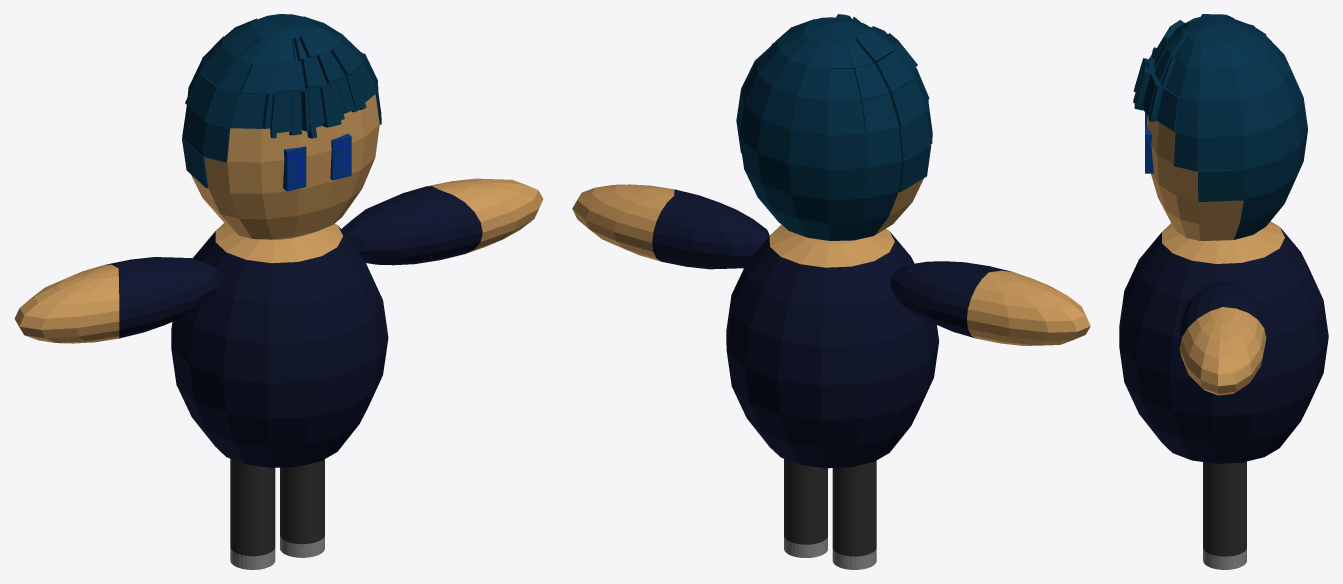
File: Abel.glb
3 renders of one model, left to right at view 1: azimuth 30°, elevation 25°; view 2: azimuth 150°, elevation 25°; view 3: azimuth 270°, elevation 25°, orthographic. The views are drawn at different scales.
Parts seen in each view (by area): view 1: body.014, head.014, rightArm.014, leftArm.014, rightLeg.014, leftLeg.014; view 2: body.014, head.014, rightArm.014, leftArm.014, rightLeg.014, leftLeg.014; view 3: body.014, head.014, leftArm.014, leftLeg.014.
Boxes of the visible parts, x1,y1,x2,y2 form: body.014: (171, 223, 388, 467); head.014: (182, 14, 381, 239); rightArm.014: (14, 257, 218, 343); leftArm.014: (341, 178, 543, 265); rightLeg.014: (230, 458, 275, 569); leftLeg.014: (280, 459, 324, 557); body.014: (726, 225, 939, 468); head.014: (736, 14, 932, 240); rightArm.014: (890, 261, 1090, 345); leftArm.014: (572, 184, 769, 269); rightLeg.014: (832, 460, 876, 569); leftLeg.014: (784, 459, 827, 557); body.014: (1119, 221, 1328, 463); head.014: (1133, 14, 1307, 240); leftArm.014: (1179, 280, 1266, 395); leftLeg.014: (1203, 461, 1246, 569).
Size of the model in its own units: 1.68 by 1.64 by 0.5954.
